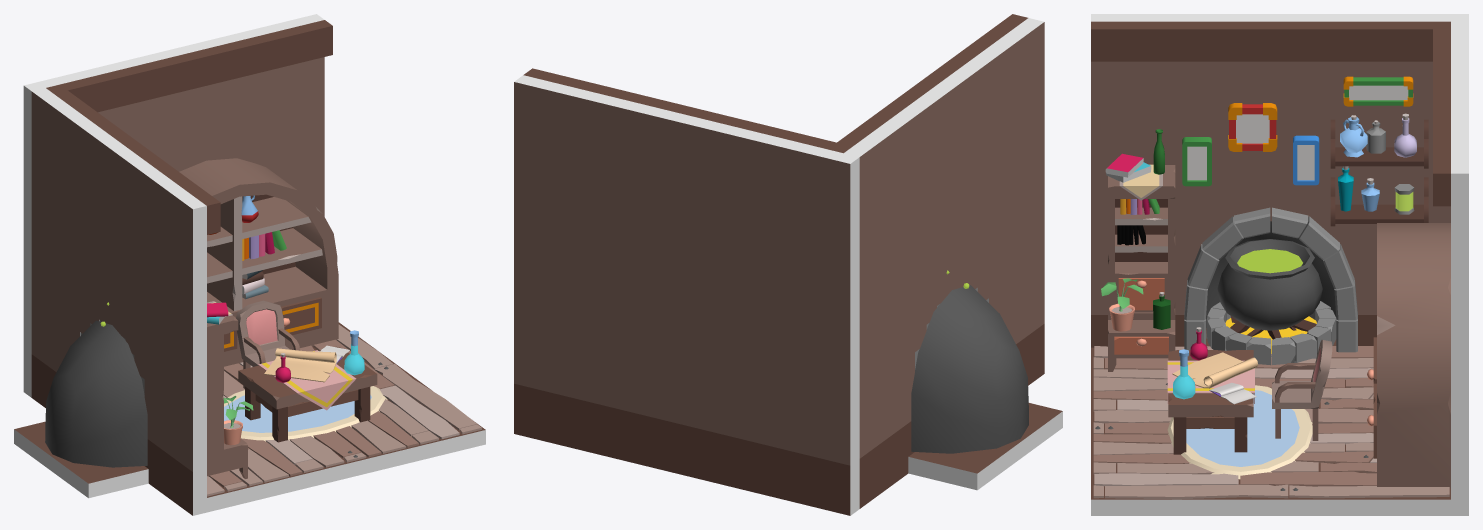
File: project.glb
The picture shows the model from 3 angles, left to right: view 1: azimuth 30°, elevation 25°; view 2: azimuth 150°, elevation 25°; view 3: azimuth 270°, elevation 25°; orthographic projection. The views are drawn at different scales.
Visible parts, largest first — view 1: wall_246.004, closet_009.001, wall_246.003, wall_246.005, floor_018.001, wall_246.006, stone_item_045.001, wall_195.021, table_044.001, wall_199.006, closet_008.001, wall_199.007 (+9 smaller); view 2: wall_246.004, wall_246.005, wall_199.010, wall_246.003, wall_246.006, stone_item_045.001, wall_199.007, wall_195.020, wall_195.021, wall_199.009, wall_199.008; view 3: floor_018.001, closet_009.001, wall_246.006, wall_246.003, wall_195.020, wall_246.005, closet_008.001, stone_item_045.001, wall_246.004, cauldron_005.002, wall_199.006, carpet_002.001 (+29 smaller).
Boxes of the visible parts, x1,y1,x2,y2 form: wall_246.004: (23,14,324,353); closet_009.001: (179,158,338,366); wall_246.003: (144,170,206,471); wall_246.005: (31,88,93,371); floor_018.001: (207,324,481,496); wall_246.006: (80,123,157,352); stone_item_045.001: (45,320,147,467); wall_195.021: (60,20,332,112); table_044.001: (238,346,377,442); wall_199.006: (207,322,485,512); closet_008.001: (207,298,247,478); wall_199.007: (14,421,148,498); wall_246.004: (514,75,859,465); wall_246.005: (844,112,914,458); wall_199.010: (514,383,859,515); wall_246.003: (973,18,1044,343); wall_246.006: (899,58,988,321); stone_item_045.001: (911,285,1028,453); wall_199.007: (908,403,1062,490); wall_195.020: (828,14,1027,153); wall_195.021: (523,68,836,149); wall_199.009: (859,421,914,508); wall_199.008: (1016,324,1044,385); floor_018.001: (1093,346,1449,499); closet_009.001: (1367,223,1450,488); wall_246.006: (1199,14,1342,221); wall_246.003: (1091,14,1198,314); wall_195.020: (1091,21,1450,61); wall_246.005: (1343,14,1450,314); closet_008.001: (1108,164,1175,371); stone_item_045.001: (1184,207,1357,352); wall_246.004: (1451,14,1468,466); cauldron_005.002: (1217,239,1322,330); wall_199.006: (1091,347,1450,515); carpet_002.001: (1167,385,1312,479).
Bounding box in the file's own units: 5.06 × 4.2 × 4.2.
Materials: 4 (4 with a texture image).
